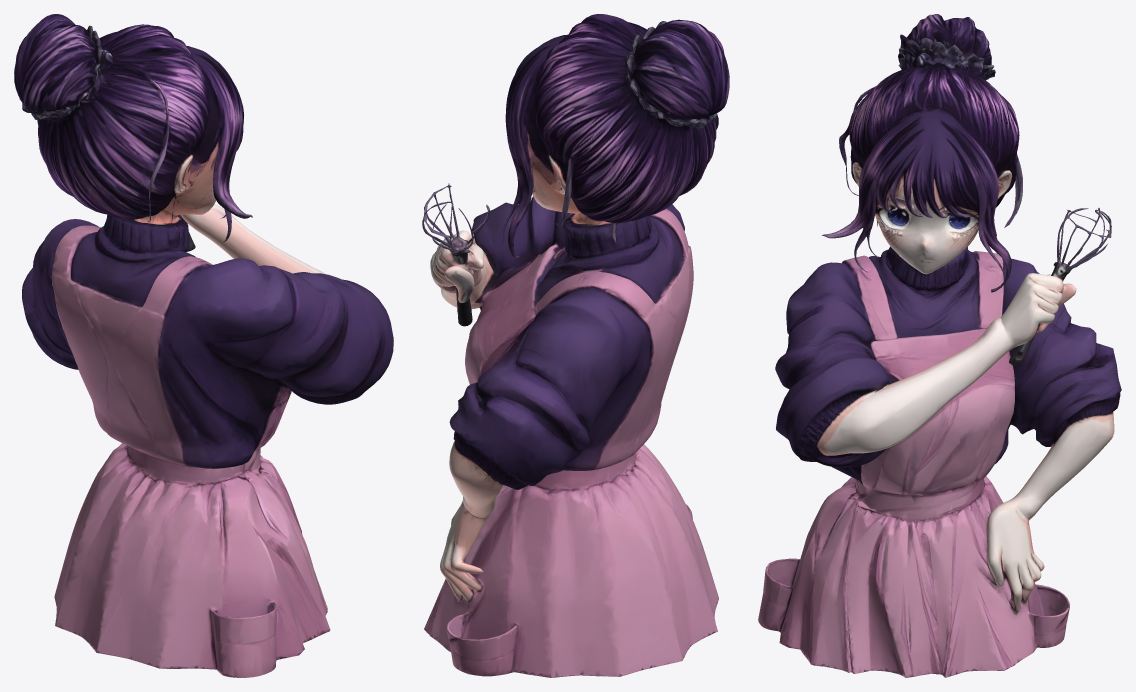
File: photo-model-aed997.glb
3 views of the same model, side by side, from view 1: azimuth 30°, elevation 25°; view 2: azimuth 150°, elevation 25°; view 3: azimuth 270°, elevation 25° (orthographic). The views are drawn at different scales.
Visible parts, largest first — view 1: tripo_node_5f485e40-4e99-453f-b677-093d961f2a2c; view 2: tripo_node_5f485e40-4e99-453f-b677-093d961f2a2c; view 3: tripo_node_5f485e40-4e99-453f-b677-093d961f2a2c.
Part boxes in pixels (x1,y1,x2,y2): tripo_node_5f485e40-4e99-453f-b677-093d961f2a2c: (14,14,393,677); tripo_node_5f485e40-4e99-453f-b677-093d961f2a2c: (422,14,729,677); tripo_node_5f485e40-4e99-453f-b677-093d961f2a2c: (758,14,1121,677).
Bounding box in the file's own units: 0.5288 × 0.9995 × 0.589.
1 material, 1 textured.
